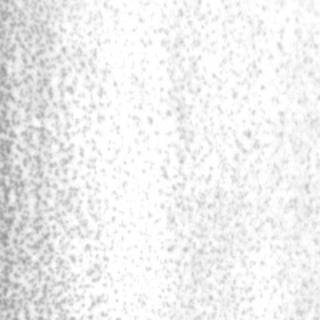pitted_surface: (138, 0, 316, 318), (0, 0, 116, 318)
